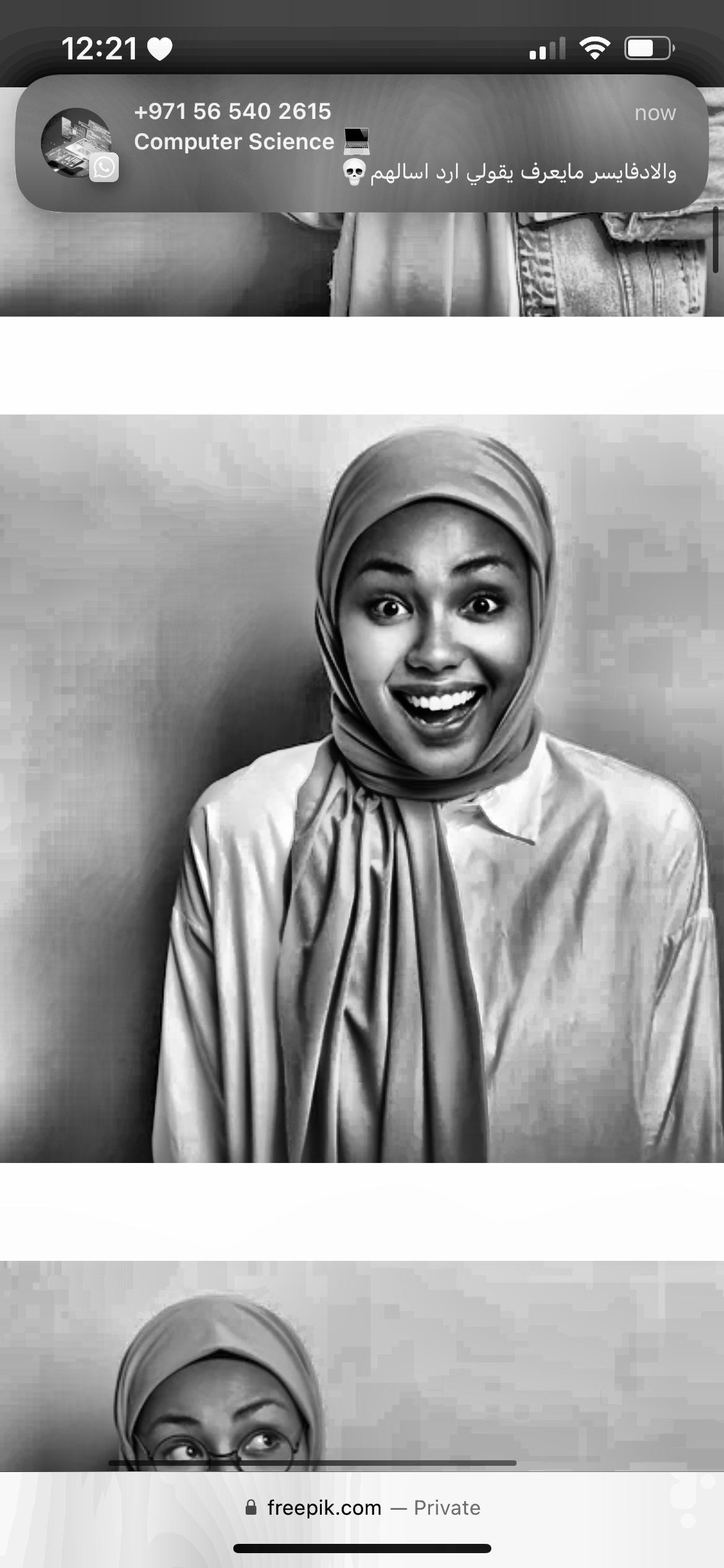surprised: (341, 490, 535, 778)
